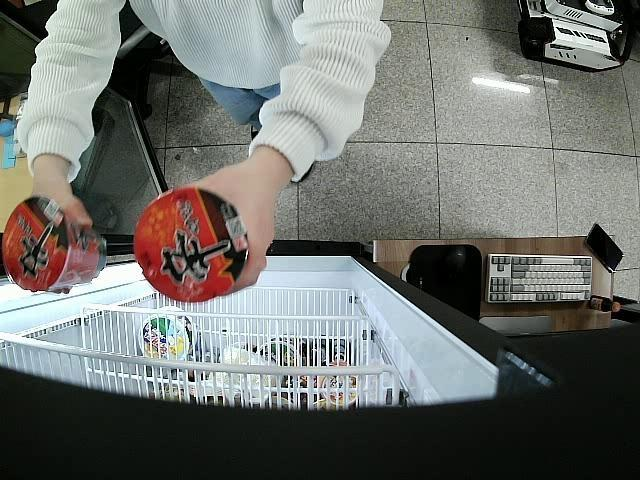02_shinRamen_S: (132, 186, 250, 303), (0, 195, 109, 293)
